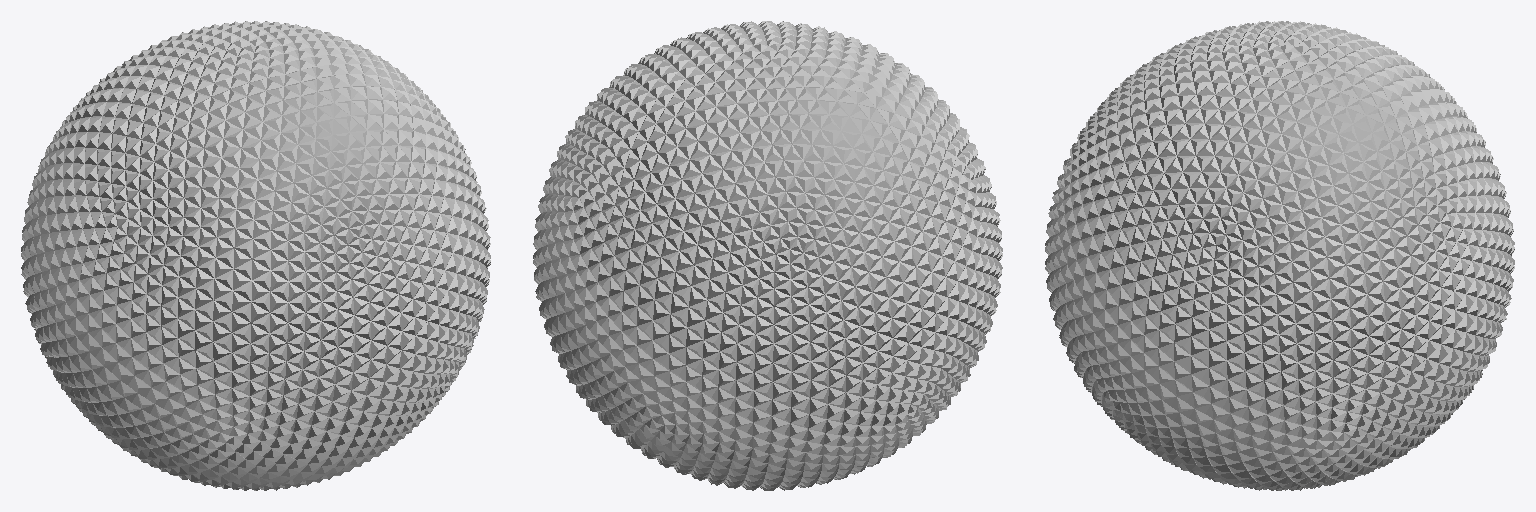
The model's file is spaceship-earth-dimpled-25_0.5.obj.
3 views of the same model, side by side, from view 1: azimuth 30°, elevation 25°; view 2: azimuth 150°, elevation 25°; view 3: azimuth 270°, elevation 25° (orthographic).
Visible parts, largest first — view 1: Epcot_mesh; view 2: Epcot_mesh; view 3: Epcot_mesh.
Boxes of the visible parts, x1=… form: Epcot_mesh: x1=21, y1=21, x2=490, y2=490; Epcot_mesh: x1=533, y1=21, x2=1002, y2=490; Epcot_mesh: x1=1045, y1=21, x2=1514, y2=490.
Size of the model in its own units: 50.94 by 50.97 by 50.93.